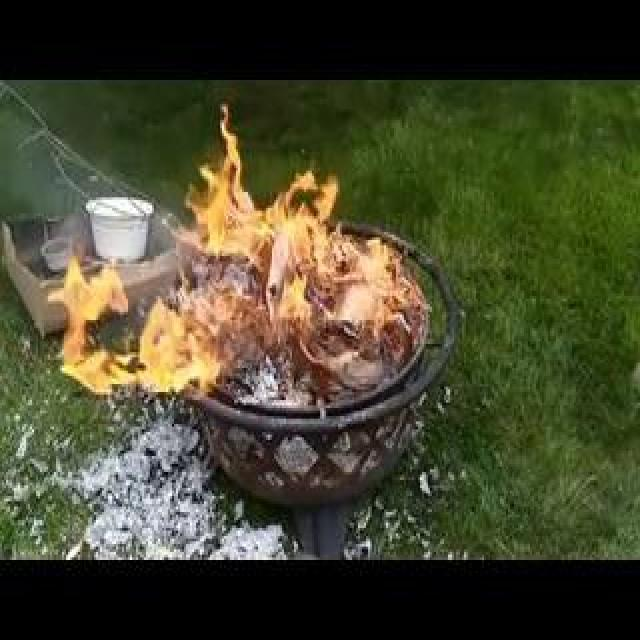Fire: (198, 130, 401, 304), (64, 272, 205, 393)
